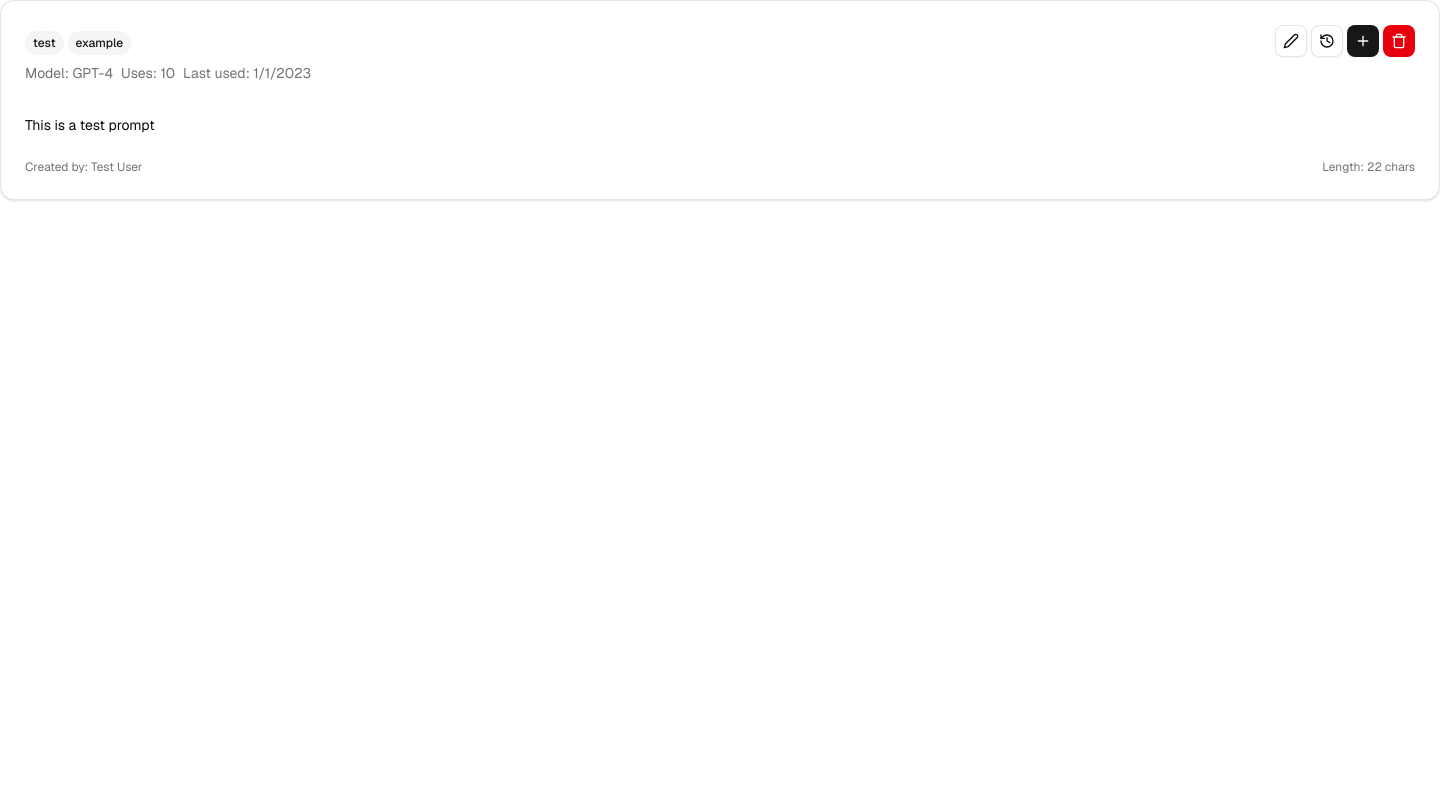
Test case: PromptItem Component › opens edit dialog when edit button is clicked
Click the 1st button: click(1291, 41) [1275,25,1307,57]
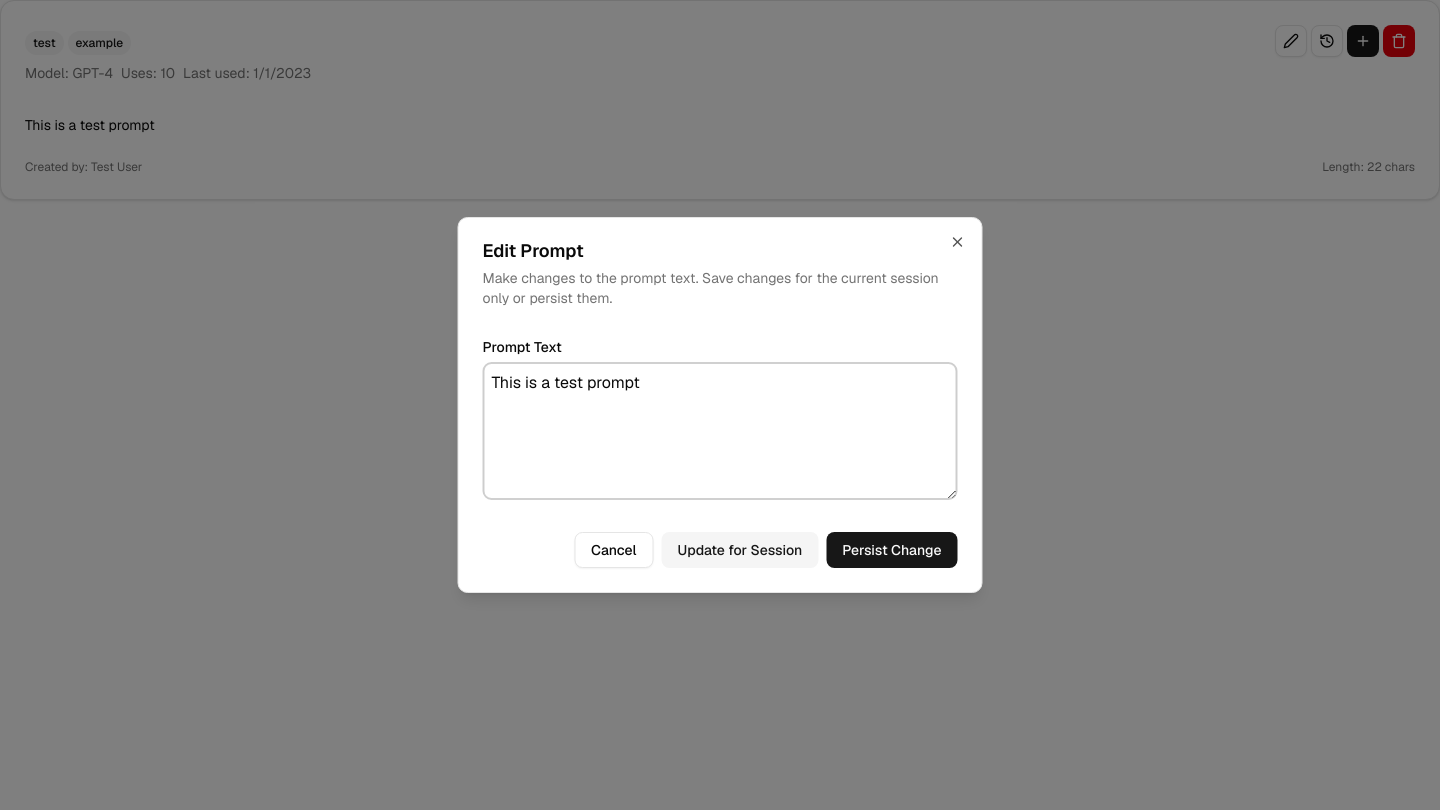
Expected: the heading "Edit Prompt" is shown, [482,239,584,262]
Expected: the text "Make changes to the prompt text. Save changes for the current session only or persist them." is shown, [482,269,939,307]
Expected: the text box is shown, [482,362,958,500]
